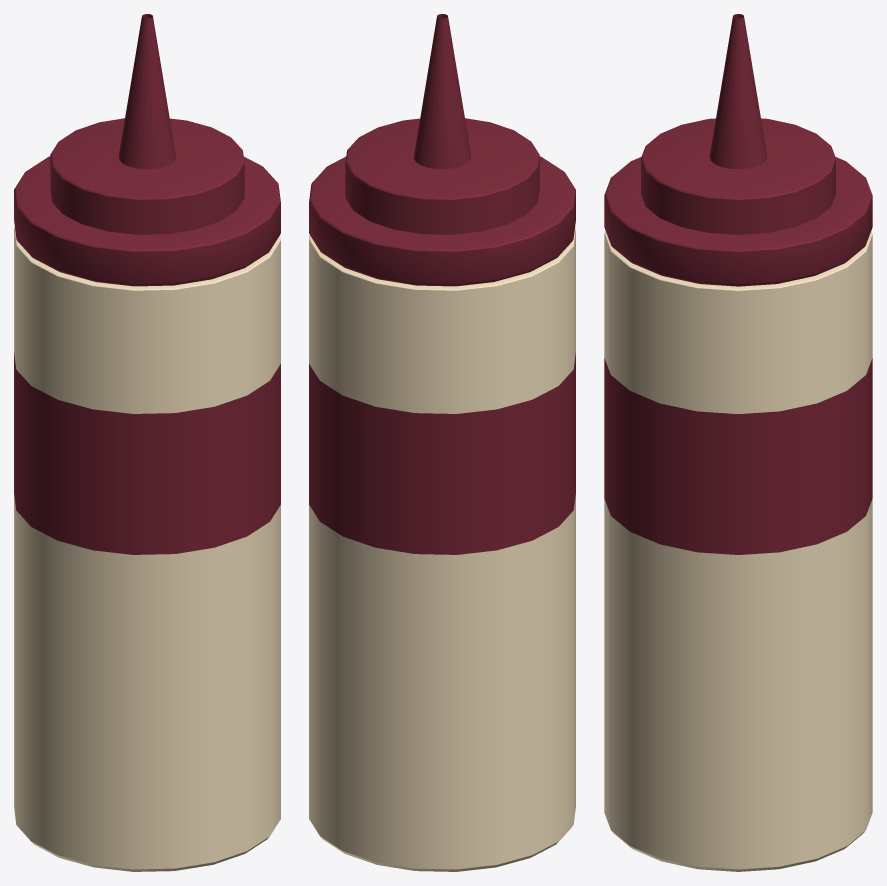
Rendered from mayo_bottle.fbx.
The picture shows the model from 3 angles, left to right: view 1: azimuth 30°, elevation 25°; view 2: azimuth 150°, elevation 25°; view 3: azimuth 270°, elevation 25°; orthographic projection.
Visible parts, largest first — view 1: mayo_bottle; view 2: mayo_bottle; view 3: mayo_bottle.
Boxes of the visible parts, bbox=[...] form: mayo_bottle: bbox=[14, 14, 280, 871]; mayo_bottle: bbox=[309, 14, 575, 871]; mayo_bottle: bbox=[604, 14, 872, 871].
Size of the model in its own units: 81.54 by 81.52 by 269.
